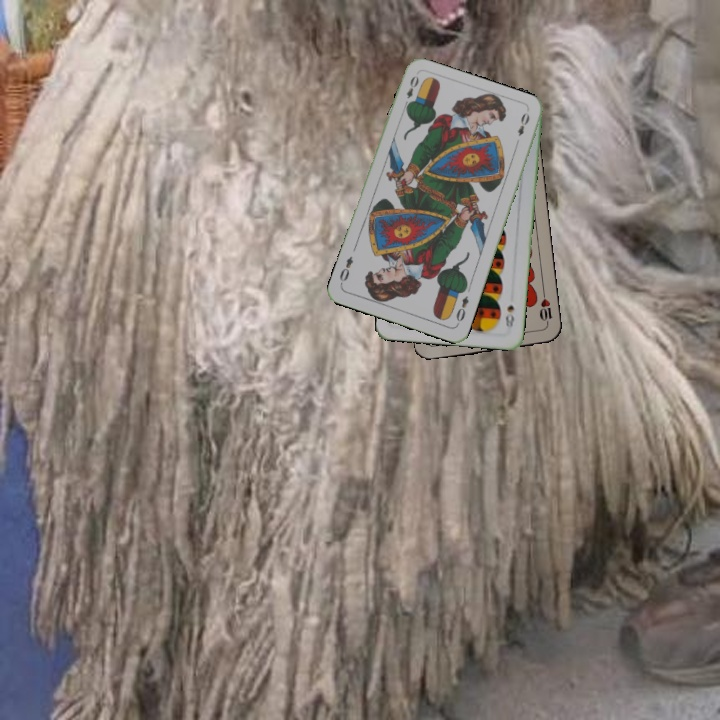EO: (400, 71, 421, 111), (452, 292, 471, 327)
H10: (535, 288, 555, 329)
S8: (501, 301, 517, 332)
